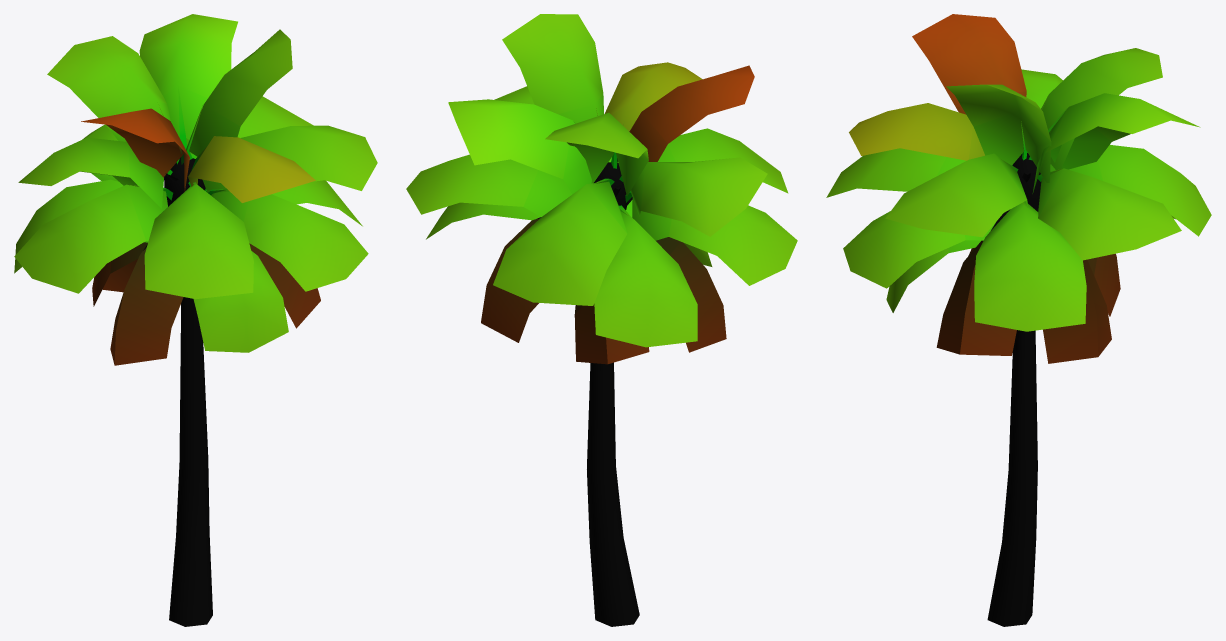
File: G_CoconutTree_004_S1.FBX
The picture shows the model from 3 angles, left to right: view 1: azimuth 30°, elevation 25°; view 2: azimuth 150°, elevation 25°; view 3: azimuth 270°, elevation 25°; orthographic projection. The views are drawn at different scales.
Parts seen in each view (by area): view 1: G_CoconutTree_004_S1_P01_LOD0; view 2: G_CoconutTree_004_S1_P01_LOD0; view 3: G_CoconutTree_004_S1_P01_LOD0.
Boxes of the visible parts, x1,y1,x2,y2 form: G_CoconutTree_004_S1_P01_LOD0: [14, 14, 377, 626]; G_CoconutTree_004_S1_P01_LOD0: [406, 14, 797, 626]; G_CoconutTree_004_S1_P01_LOD0: [826, 14, 1211, 626].
Size of what is drawn, in the model's own units: 242 by 398 by 241.
